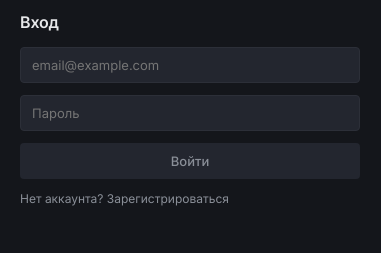
Test: LoginForm › в режиме регистрации требует пароль от 8 символов
Step 1. Click the button "Нет аккаунта? Зарегистрироваться" → {"x": 190, "y": 198}, box [20,191,360,206]
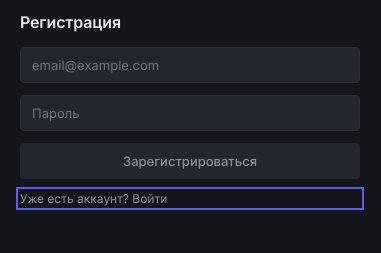
Step 2. Type "me@example.com" into the field labelled "email" → {"x": 190, "y": 65}, box [20,47,360,83]
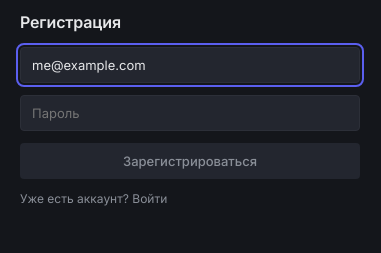
Step 3. Type "short" into the password field labelled "Пароль" → {"x": 190, "y": 113}, box [20,95,360,131]
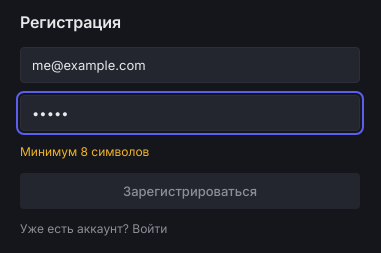
Expected: the button "Зарегистрироваться" is disabled, [20,173,360,209]
Now the text "Минимум 8 символов" is shown, box [20,144,149,159]
